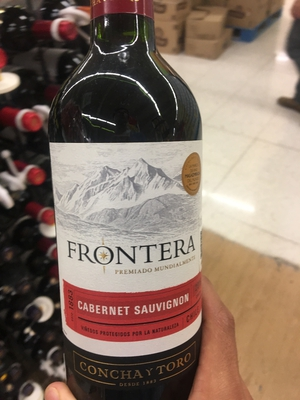frontera cabernet sauvignon: (40, 12, 214, 400)
